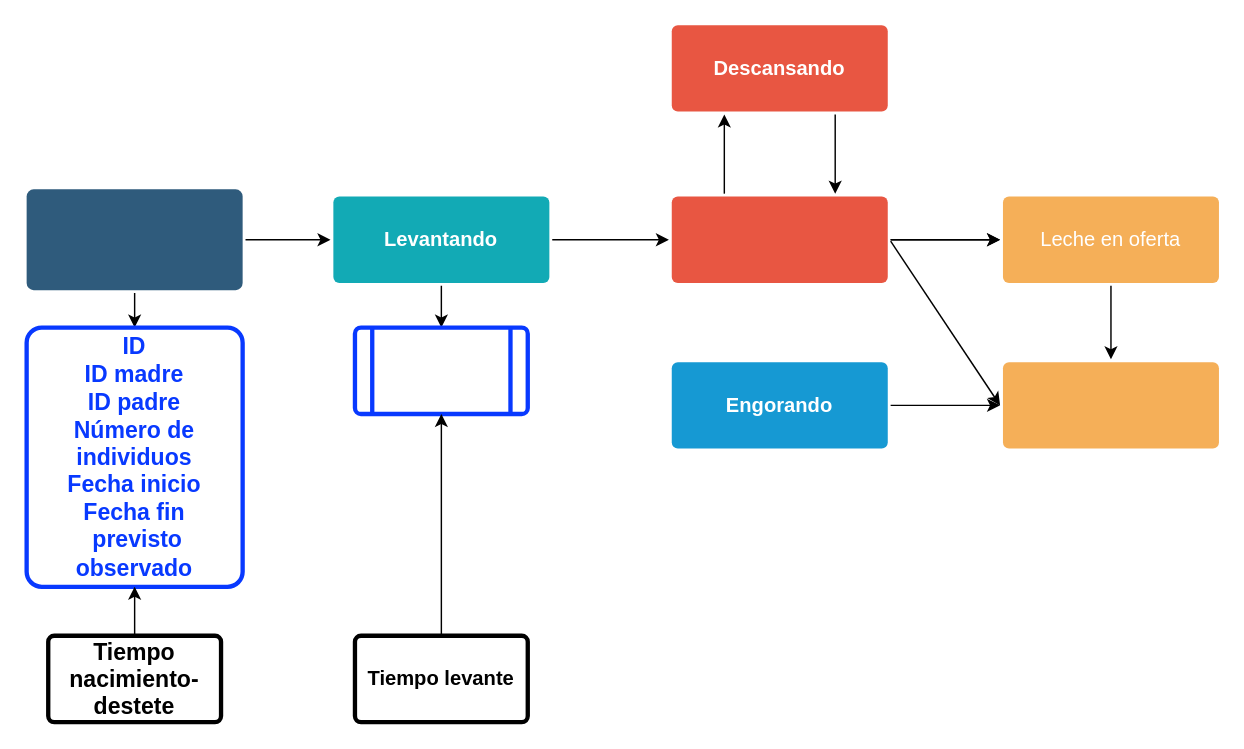
Image size: 1244x749. Some labels were removed from this diagram. The centre of each missing label's shape, as x and y in pixels:
Amamantando: [134,239]
Carne en oferta: [1110,404]
Fecha inicio Fecha fin: [440,370]
Lactando: [779,239]
